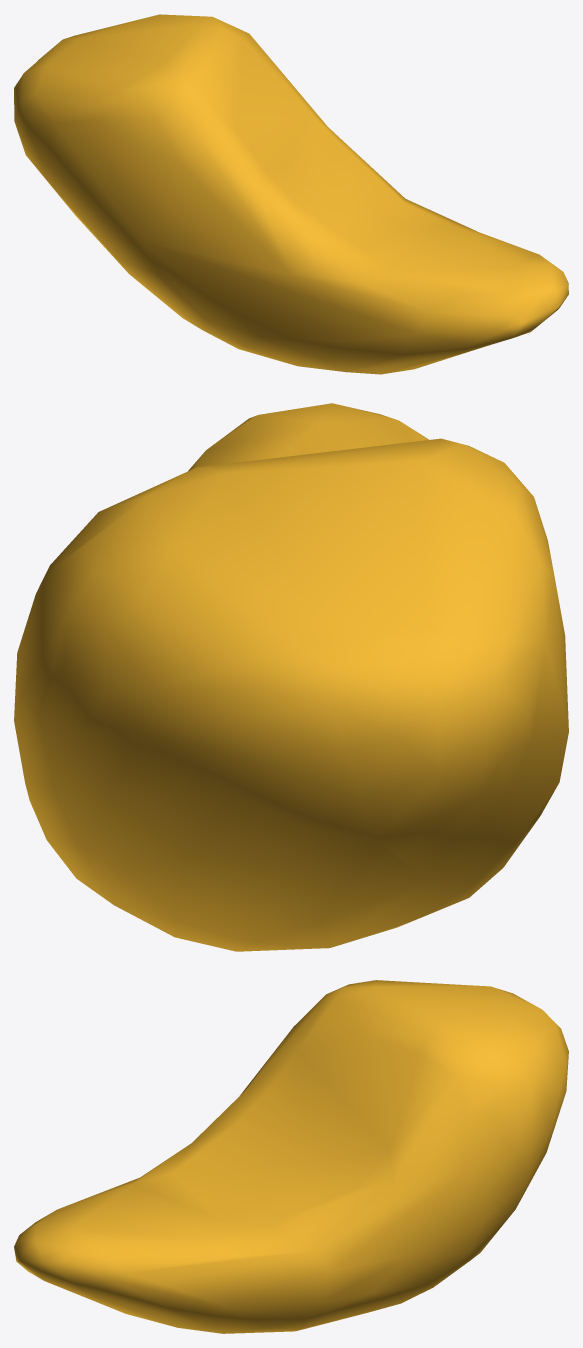
Rendered from nervoso-lateral-geniculate-body-l.glb.
The picture shows the model from 3 angles, top to bottom: view 1: azimuth 30°, elevation 25°; view 2: azimuth 150°, elevation 25°; view 3: azimuth 270°, elevation 25°; orthographic projection. The views are drawn at different scales.
Visible parts, largest first — view 1: Lateral geniculate body.l; view 2: Lateral geniculate body.l; view 3: Lateral geniculate body.l.
Part boxes in pixels (bbox=[...]): Lateral geniculate body.l: bbox=[14, 14, 568, 374]; Lateral geniculate body.l: bbox=[14, 403, 568, 951]; Lateral geniculate body.l: bbox=[14, 980, 568, 1333].
Bounding box in the file's own units: 0.00822 × 0.0062 × 0.0114.
